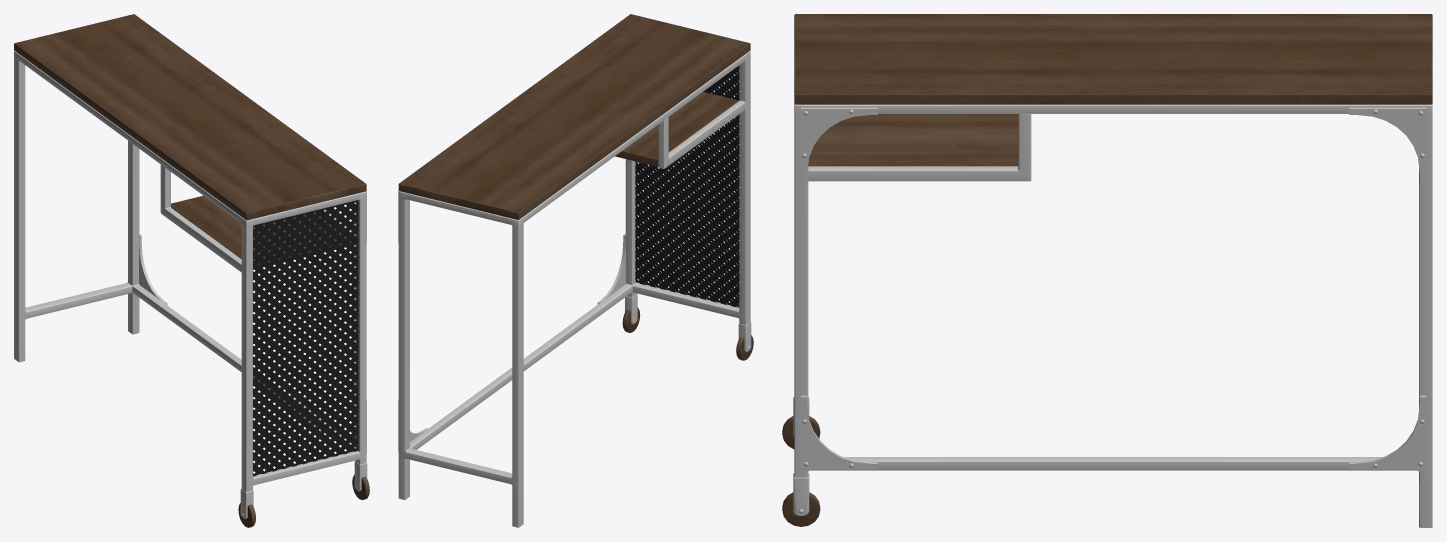
Rendered from ikea_work_table.fbx.
3 views of the same model, side by side, from view 1: azimuth 30°, elevation 25°; view 2: azimuth 150°, elevation 25°; view 3: azimuth 270°, elevation 25° (orthographic). The views are drawn at different scales.
Visible parts, largest first — view 1: ikea_work_table; view 2: ikea_work_table; view 3: ikea_work_table.
Boxes of the visible parts, box(x1,y1,x2,y2) form: ikea_work_table: box(14, 14, 369, 527); ikea_work_table: box(398, 14, 753, 527); ikea_work_table: box(782, 14, 1432, 527).
Bounding box in the file's own units: 31.16 × 75 × 102.
